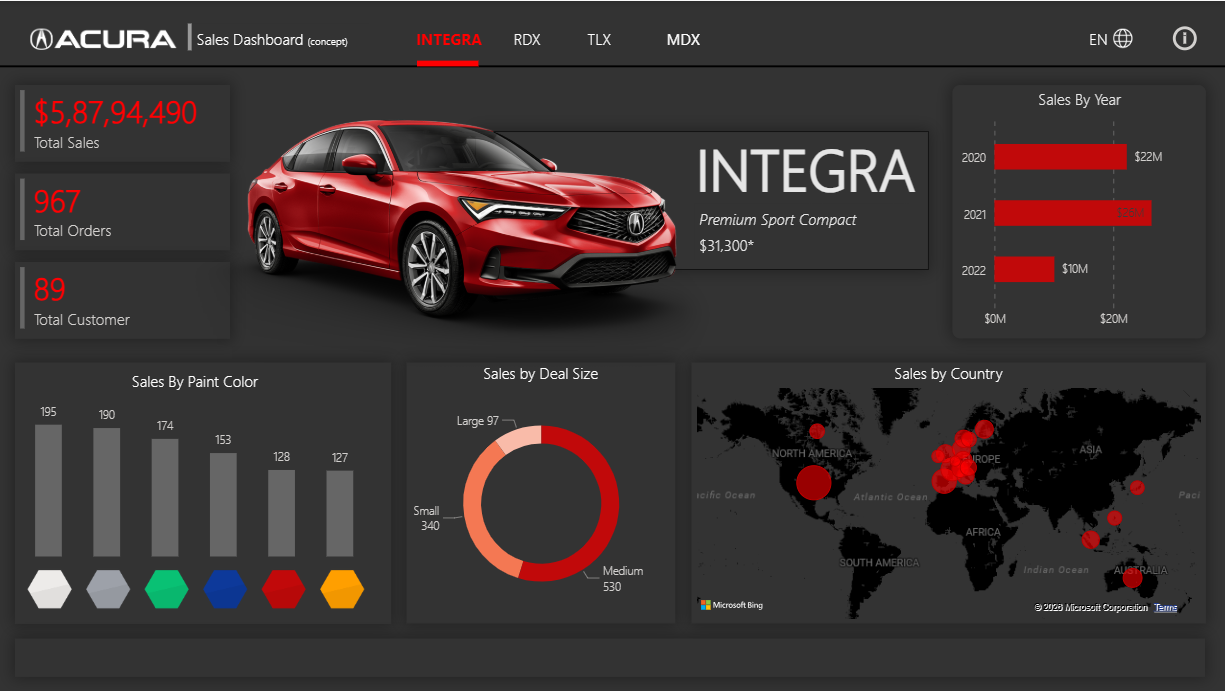

The dashboard page shown, as its layout file describes it:
{"tool":"powerbi","page":{"name":"Integra","canvas":[1280,720],"ordinal":0},"visuals":[{"type":"textbox","box":[424,22.7,89,36],"z":0,"group":"g1"},{"type":"textbox","box":[524.9,22.7,51.7,32],"z":0,"group":"g2"},{"type":"textbox","box":[599.5,22.7,51.7,32],"z":0,"group":"g3"},{"type":"textbox","box":[672,22.7,80,48],"z":0,"group":"g4"},{"type":"shape","box":[496,135.8,472,144],"z":0},{"type":"image","box":[16,22.7,184,32],"z":1000},{"type":"actionButton","box":[424,22.7,89,36],"z":1000,"group":"g1"},{"type":"actionButton","box":[522.7,22.7,56,32],"z":1000,"group":"g2"},{"type":"actionButton","box":[597.3,22.7,56,32],"z":1000,"group":"g3"},{"type":"actionButton","box":[672,22.7,72,32],"z":1000,"group":"g4"},{"type":"map","title":"Sales by Country","fields":{"Category":["Area.COUNTRY"],"Size":["Sales.Total Sales"]},"box":[720,376,536,272],"z":2000},{"type":"multiRowCard","title":"Key Metrics","fields":{"Values":["Sales.Total Sales"]},"box":[16,88,224,80],"z":3000},{"type":"multiRowCard","title":"Key Metrics","fields":{"Values":["Sales.Total Orders"]},"box":[16,180,224,80],"z":4000},{"type":"multiRowCard","title":"Key Metrics","fields":{"Values":["Sales.Total Customer"]},"box":[16,272,224,80],"z":5000},{"type":"multiRowCard","fields":{"Values":["Vehcile Model.Model Name"]},"box":[720,127.8,272,96],"z":6000},{"type":"multiRowCard","fields":{"Values":["Vehcile Model.Description"]},"box":[723,211.8,224,32],"z":7000},{"type":"multiRowCard","fields":{"Values":["Vehcile Model.Starting Price"]},"box":[723,237.8,224,32],"z":8000},{"type":"donutChart","title":"Sales by Deal Size","fields":{"Category":["Sales.DEALSIZE"],"Y":["CountNonNull(Sales.DEALSIZE)"]},"box":[424,376,280,272],"z":9000},{"type":"image","box":[168,80,600,320],"z":9500},{"type":"shape","box":[16,376,392,272],"z":10000},{"type":"image","box":[328,584,56,56],"z":11000},{"type":"image","box":[267.2,584,56,56],"z":12000},{"type":"image","box":[84.8,584,56,56],"z":13000},{"type":"image","box":[24,584,56,56],"z":14000},{"type":"image","box":[206.4,584,56,56],"z":15000},{"type":"image","box":[145.6,584,56,56],"z":16000},{"type":"clusteredColumnChart","title":"Sales By Paint  Color","fields":{"Category":["Sales.Ordered Color"],"Y":["Sales.Total Orders"]},"box":[32,384,344,200],"z":17000},{"type":"barChart","title":"Sales By Year","fields":{"Category":["Calender.Date.Variation.Date Hierarchy.Year"],"Y":["Sales.Total Sales"]},"box":[992,88,264,264],"z":18000},{"type":"group","id":"g1","title":"Group 1","box":[424,22.7,89,36],"z":19000},{"type":"group","id":"g2","title":"Group 1","box":[522.7,22.7,56,32],"z":20000},{"type":"group","id":"g3","title":"Group 1","box":[597.3,22.7,56,32],"z":21000},{"type":"group","id":"g4","title":"Group 1","box":[672,22.7,80,48],"z":22000},{"type":"shape","box":[0,64,1280,8],"z":23000},{"type":"textbox","box":[200,24,184,32],"z":24000},{"type":"shape","box":[165,24,64,28],"z":25000},{"type":"shape","box":[435,53,64,24],"z":26000},{"type":"shape","box":[16,664,1240,40],"z":27000},{"type":"image","box":[1152,21,36,36],"z":28000},{"type":"textbox","box":[1130.3,23,39,37],"z":29000},{"type":"actionButton","box":[1217,22,34,34],"z":35000}]}

Visuals, with their boxes in screenshot pixels (x1, y1, x2, y2), scaled from the page's 1280x720 canvas onto the 1225x691 screenshot:
textbox: <bbox>406, 22, 491, 56</bbox>
textbox: <bbox>502, 22, 552, 52</bbox>
textbox: <bbox>574, 22, 623, 52</bbox>
textbox: <bbox>643, 22, 720, 68</bbox>
shape: <bbox>475, 130, 926, 269</bbox>
image: <bbox>15, 22, 191, 52</bbox>
actionButton: <bbox>406, 22, 491, 56</bbox>
actionButton: <bbox>500, 22, 554, 52</bbox>
actionButton: <bbox>572, 22, 625, 52</bbox>
actionButton: <bbox>643, 22, 712, 52</bbox>
"Sales by Country" map: <bbox>689, 361, 1202, 622</bbox>
"Key Metrics" multiRowCard: <bbox>15, 84, 230, 161</bbox>
"Key Metrics" multiRowCard: <bbox>15, 173, 230, 250</bbox>
"Key Metrics" multiRowCard: <bbox>15, 261, 230, 338</bbox>
multiRowCard - Vehcile Model.Model Name: <bbox>689, 123, 949, 215</bbox>
multiRowCard - Vehcile Model.Description: <bbox>692, 203, 906, 234</bbox>
multiRowCard - Vehcile Model.Starting Price: <bbox>692, 228, 906, 259</bbox>
"Sales by Deal Size" donutChart: <bbox>406, 361, 674, 622</bbox>
image: <bbox>161, 77, 735, 384</bbox>
shape: <bbox>15, 361, 390, 622</bbox>
image: <bbox>314, 560, 368, 614</bbox>
image: <bbox>256, 560, 309, 614</bbox>
image: <bbox>81, 560, 135, 614</bbox>
image: <bbox>23, 560, 77, 614</bbox>
image: <bbox>198, 560, 251, 614</bbox>
image: <bbox>139, 560, 193, 614</bbox>
"Sales By Paint  Color" clusteredColumnChart: <bbox>31, 369, 360, 560</bbox>
"Sales By Year" barChart: <bbox>949, 84, 1202, 338</bbox>
"Group 1" group: <bbox>406, 22, 491, 56</bbox>
"Group 1" group: <bbox>500, 22, 554, 52</bbox>
"Group 1" group: <bbox>572, 22, 625, 52</bbox>
"Group 1" group: <bbox>643, 22, 720, 68</bbox>
shape: <bbox>0, 61, 1224, 69</bbox>
textbox: <bbox>191, 23, 368, 54</bbox>
shape: <bbox>158, 23, 219, 50</bbox>
shape: <bbox>416, 51, 478, 74</bbox>
shape: <bbox>15, 637, 1202, 676</bbox>
image: <bbox>1102, 20, 1137, 55</bbox>
textbox: <bbox>1082, 22, 1119, 58</bbox>
actionButton: <bbox>1165, 21, 1197, 54</bbox>
